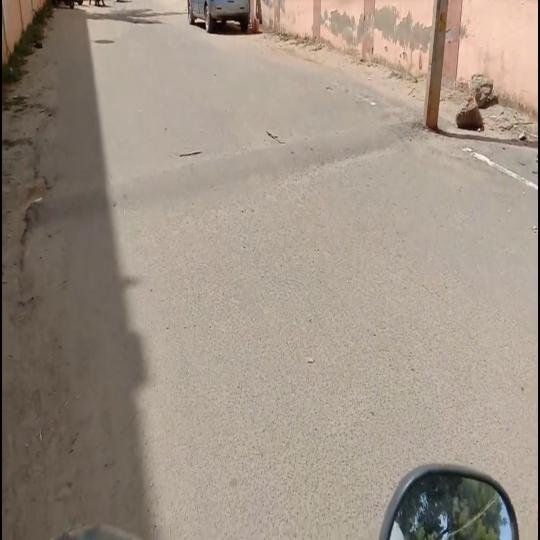Speed Bump: (22, 116, 423, 236)
